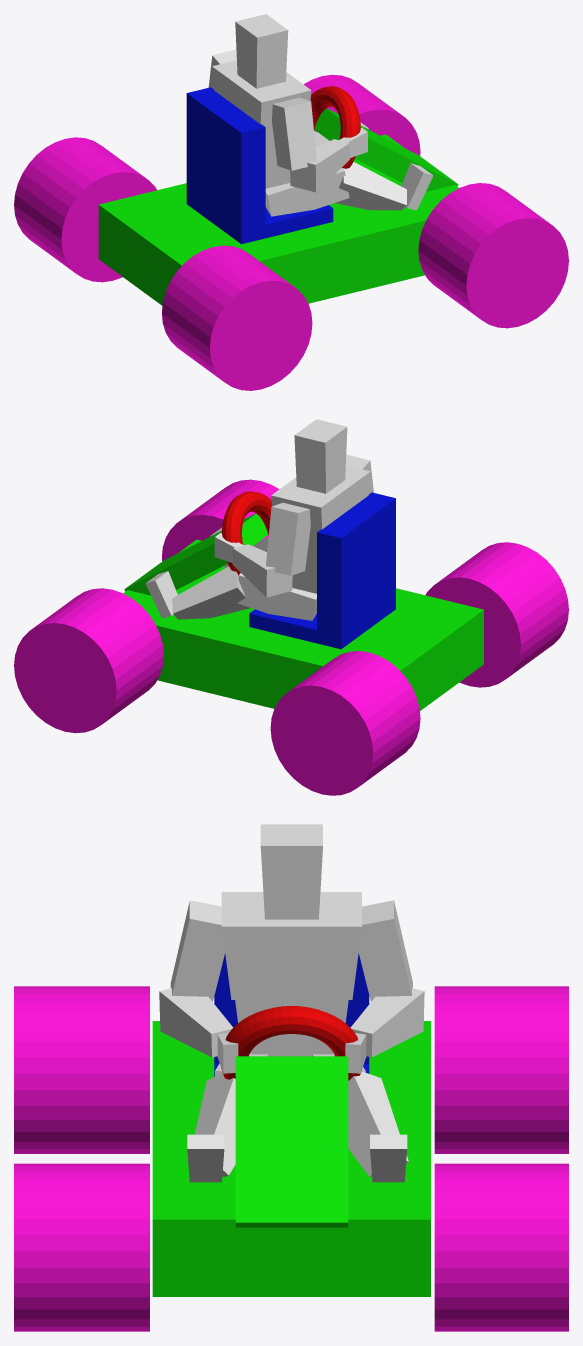
File: KartPlaceHolder.fbx
3 views of the same model, one above another, from view 1: azimuth 30°, elevation 25°; view 2: azimuth 150°, elevation 25°; view 3: azimuth 270°, elevation 25° (orthographic). The views are drawn at different scales.
Visible parts, largest first — view 1: Body, Player, FrontRightWheel, BackRightWheel, Seat, BackLeftWheel, Neck, FrontLeftWheel, Steer; view 2: Body, Player, BackLeftWheel, FrontLeftWheel, BackRightWheel, Seat, Neck, FrontRightWheel, Steer; view 3: Player, Body, FrontRightWheel, BackRightWheel, FrontLeftWheel, BackLeftWheel, Neck, Steer, Seat.
Part boxes in pixels (x1=…): Body: x1=98, y1=134, x2=458, y2=305; Player: x1=208, y1=14, x2=433, y2=216; FrontRightWheel: x1=418, y1=183, x2=568, y2=328; BackRightWheel: x1=162, y1=245, x2=312, y2=390; Seat: x1=186, y1=87, x2=333, y2=244; BackLeftWheel: x1=14, y1=137, x2=156, y2=282; Neck: x1=314, y1=108, x2=458, y2=191; FrontLeftWheel: x1=304, y1=74, x2=420, y2=155; Steer: x1=310, y1=86, x2=360, y2=168; Body: x1=123, y1=539, x2=483, y2=710; Player: x1=145, y1=419, x2=373, y2=620; BackLeftWheel: x1=270, y1=651, x2=420, y2=795; FrontLeftWheel: x1=14, y1=588, x2=163, y2=733; BackRightWheel: x1=425, y1=542, x2=568, y2=687; Seat: x1=249, y1=492, x2=395, y2=649; Neck: x1=124, y1=513, x2=268, y2=595; FrontRightWheel: x1=162, y1=479, x2=279, y2=561; Steer: x1=222, y1=491, x2=271, y2=575; Player: x1=159, y1=824, x2=424, y2=1182; Body: x1=152, y1=1021, x2=430, y2=1296; FrontRightWheel: x1=14, y1=1163, x2=149, y2=1331; BackRightWheel: x1=14, y1=986, x2=149, y2=1153; FrontLeftWheel: x1=434, y1=1163, x2=568, y2=1331; BackLeftWheel: x1=434, y1=986, x2=568, y2=1153; Neck: x1=235, y1=1056, x2=348, y2=1227; Steer: x1=221, y1=1006, x2=362, y2=1080; Seat: x1=214, y1=953, x2=369, y2=1076.
Size of the model in its own units: 350 by 249 by 331.
